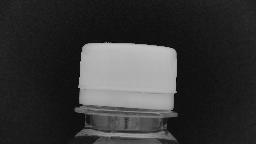Good Cap: (68, 38, 182, 120)
